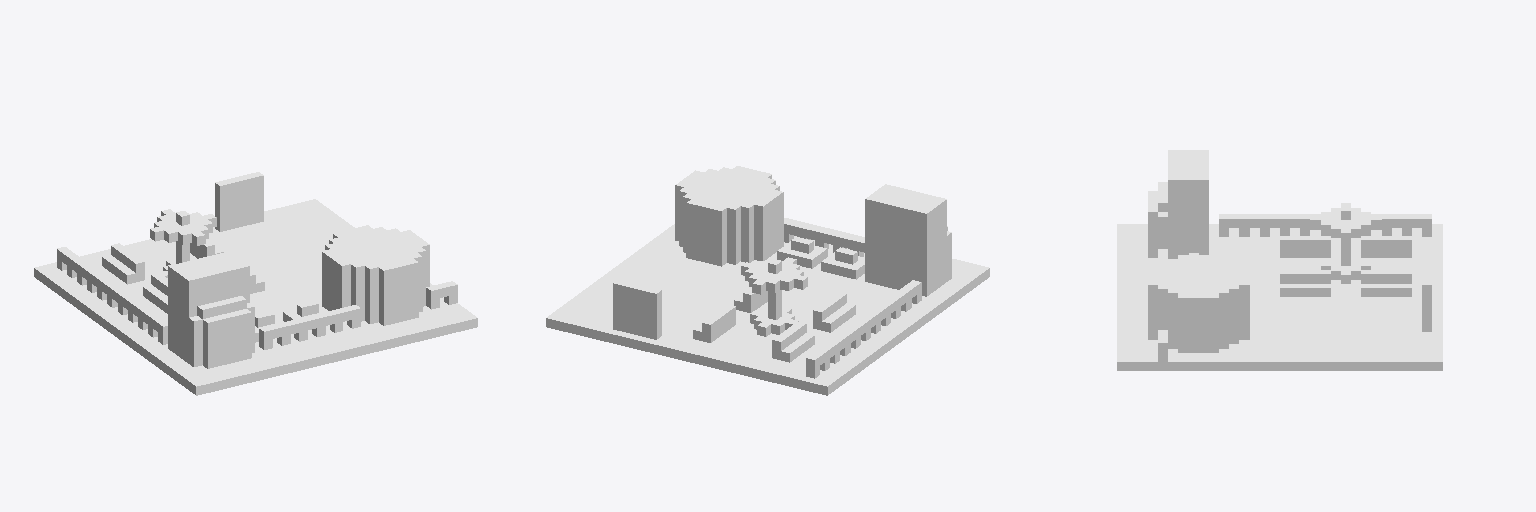
Rendered from restaurant1.obj.
3 views of the same model, side by side, from view 1: azimuth 30°, elevation 25°; view 2: azimuth 150°, elevation 25°; view 3: azimuth 270°, elevation 25° (orthographic).
Parts seen in each view (by area): view 1: object 1; view 2: object 1; view 3: object 1.
Part boxes in pixels (bbox=[...]): object 1: bbox=[34, 172, 477, 395]; object 1: bbox=[546, 166, 989, 395]; object 1: bbox=[1117, 150, 1442, 370].
Size of the model in its own units: 3.2 by 1 by 3.2.